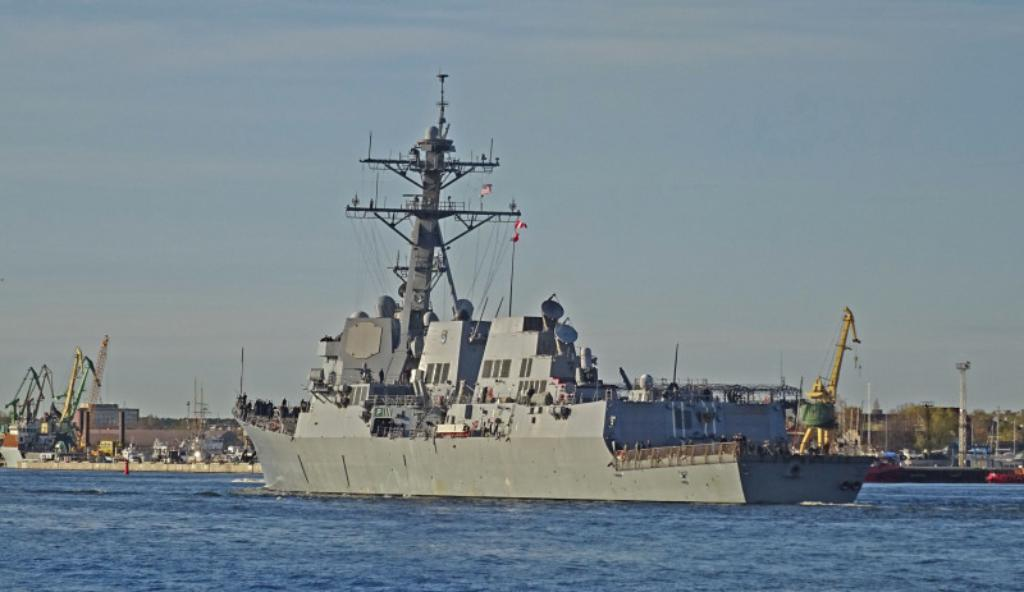Warship: (229, 63, 873, 508)
